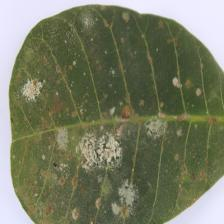red rust: (8, 4, 224, 223)
